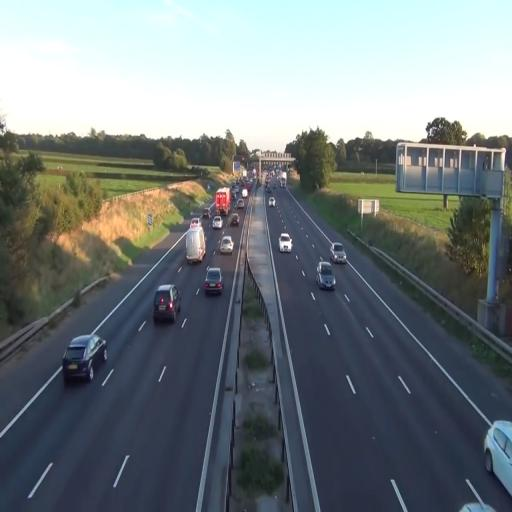vehicle: (62, 332, 108, 382), (483, 419, 512, 498), (152, 284, 180, 325), (185, 221, 206, 263), (316, 260, 336, 290), (204, 267, 224, 296), (215, 187, 230, 216), (330, 243, 347, 264), (219, 235, 234, 254), (278, 232, 292, 252), (212, 214, 223, 230)
